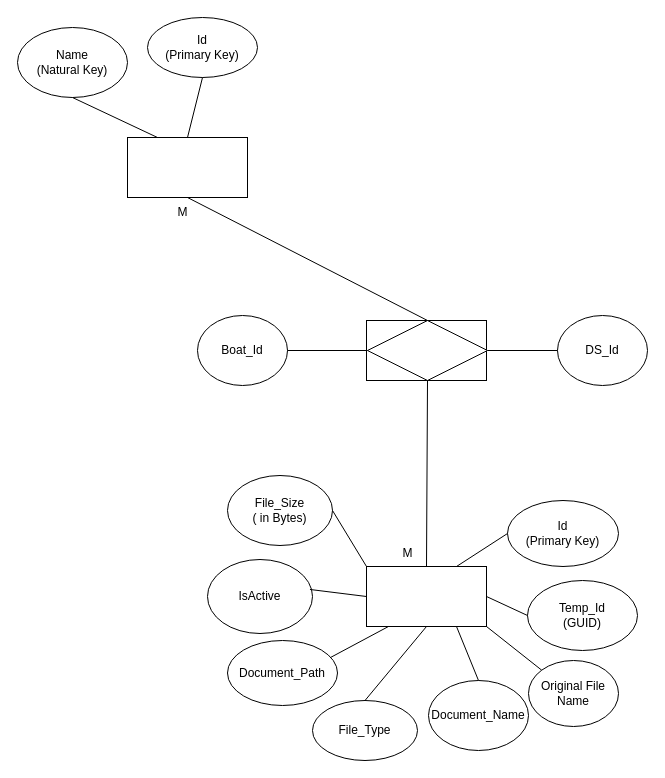
The diagram is 665 pixels wide and 778 high, and some of its shapes have lost their labels. The shapes that lost their labels are listed below. From the top down, each one's centre as x and y in pixels, then its label:
point (187, 167): Boat
point (427, 350): Boat_DS
point (426, 596): Document_Storage
